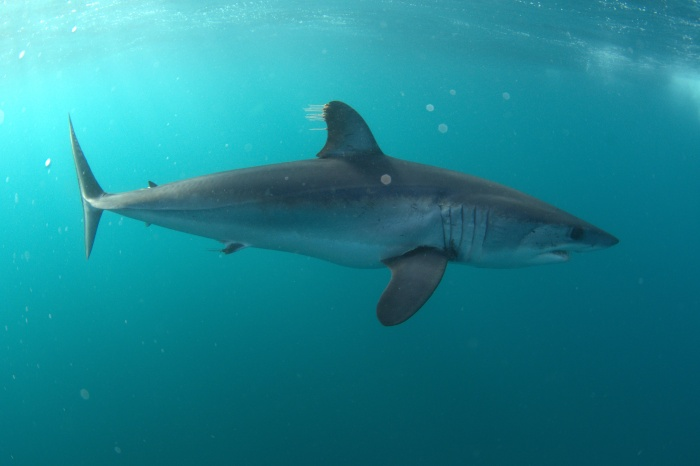Mako: (52, 89, 621, 342)
